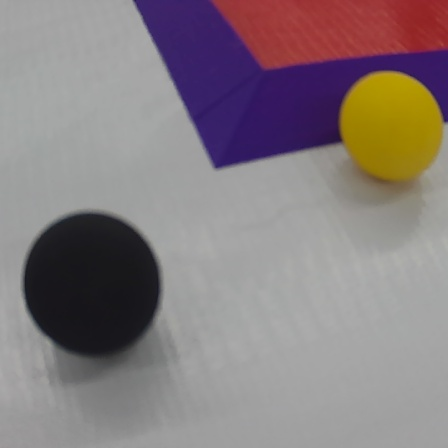black: (22, 204, 166, 364)
red_aim: (125, 4, 448, 180)
yellow: (334, 63, 443, 186)
